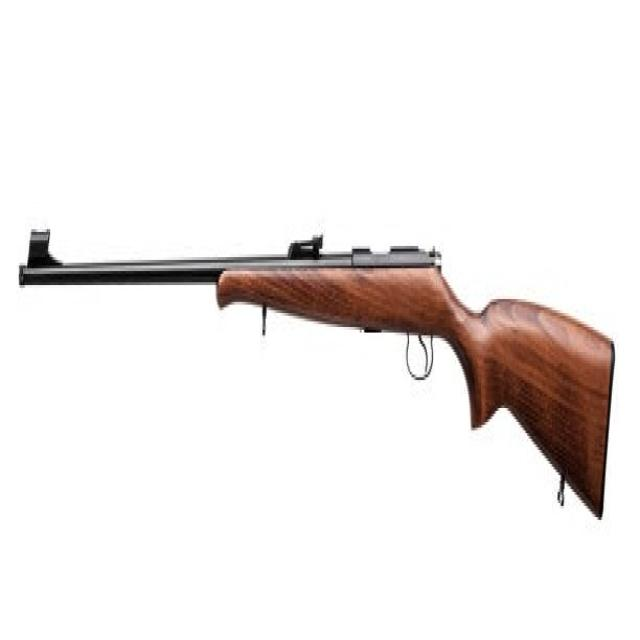rifle: (16, 218, 616, 532)
